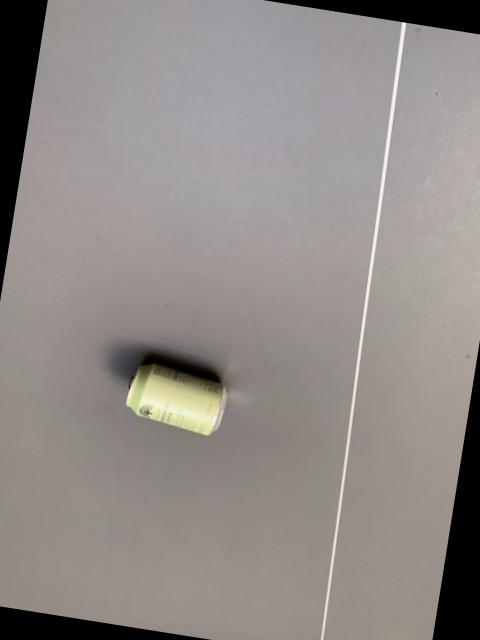metal: (127, 365, 229, 437)
